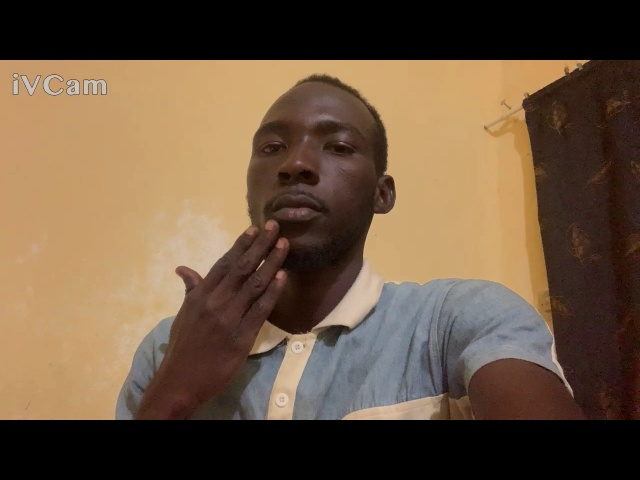merci: (152, 210, 291, 420)
